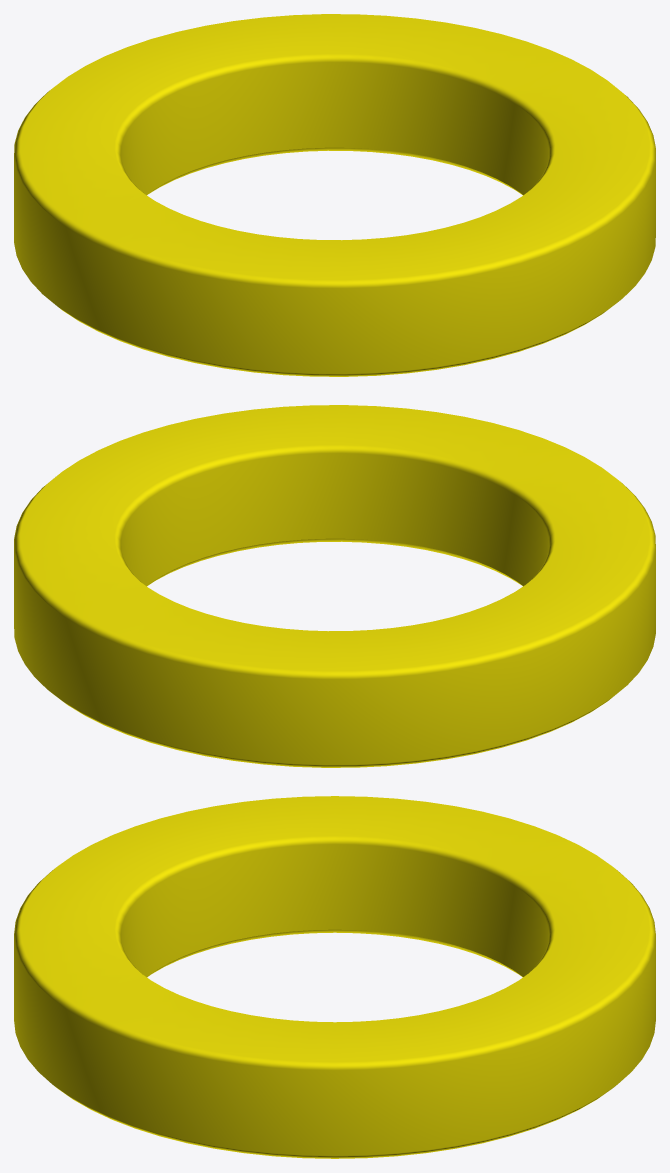
3 renders of one model, top to bottom at view 1: azimuth 30°, elevation 25°; view 2: azimuth 150°, elevation 25°; view 3: azimuth 270°, elevation 25°, orthographic.
Visible parts, largest first — view 1: seal_body; view 2: seal_body; view 3: seal_body.
Boxes of the visible parts, x1,y1,x2,y2 form: seal_body: [14, 14, 655, 376]; seal_body: [14, 405, 655, 767]; seal_body: [14, 796, 655, 1158].
Bounding box in the file's own units: 0.0286 × 0.00476 × 0.0286.
